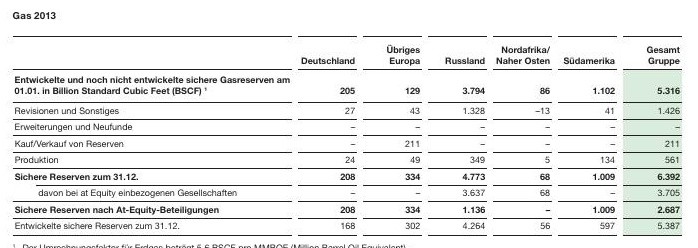table: (0, 0, 698, 248)
